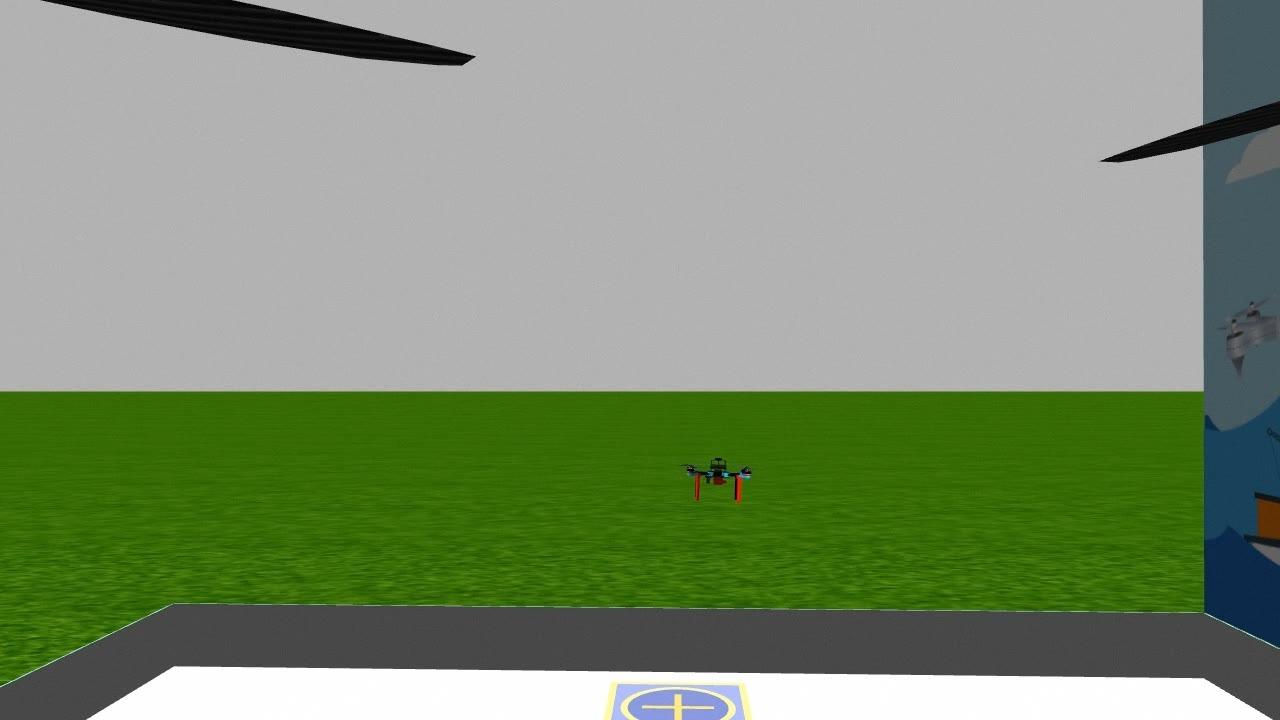UAV: (674, 446, 764, 505)
